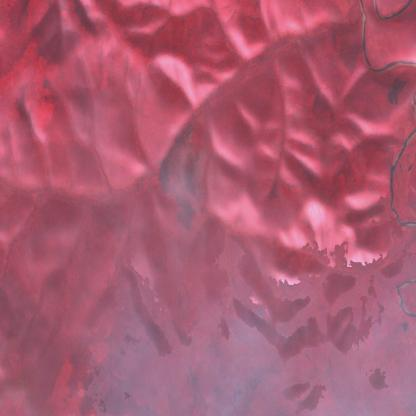fire: (180, 121, 210, 162)
